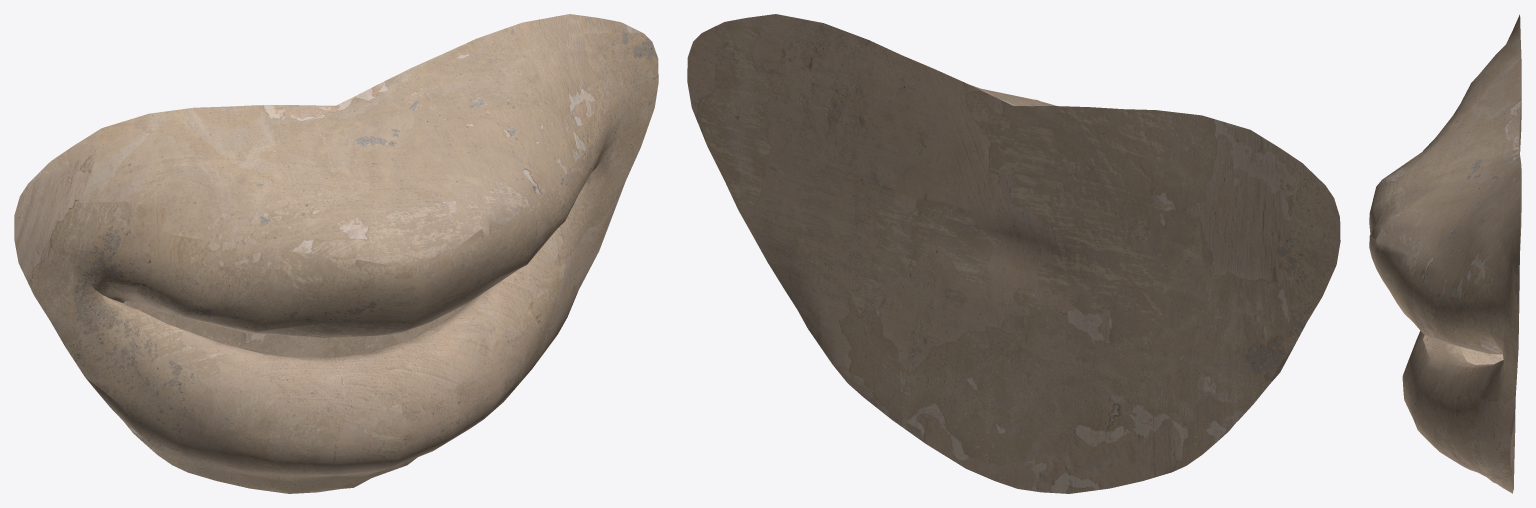
Rendered from mouth.fbx.
The picture shows the model from 3 angles, left to right: view 1: azimuth 30°, elevation 25°; view 2: azimuth 150°, elevation 25°; view 3: azimuth 270°, elevation 25°; orthographic projection. The views are drawn at different scales.
Parts seen in each view (by area): view 1: mouth; view 2: mouth; view 3: mouth.
Part boxes in pixels (box(x1,y1,x2,y2)): mouth: box(14, 14, 658, 493); mouth: box(687, 14, 1340, 493); mouth: box(1369, 14, 1521, 493).
Size of the model in its own units: 5.72 by 3.54 by 1.36.
